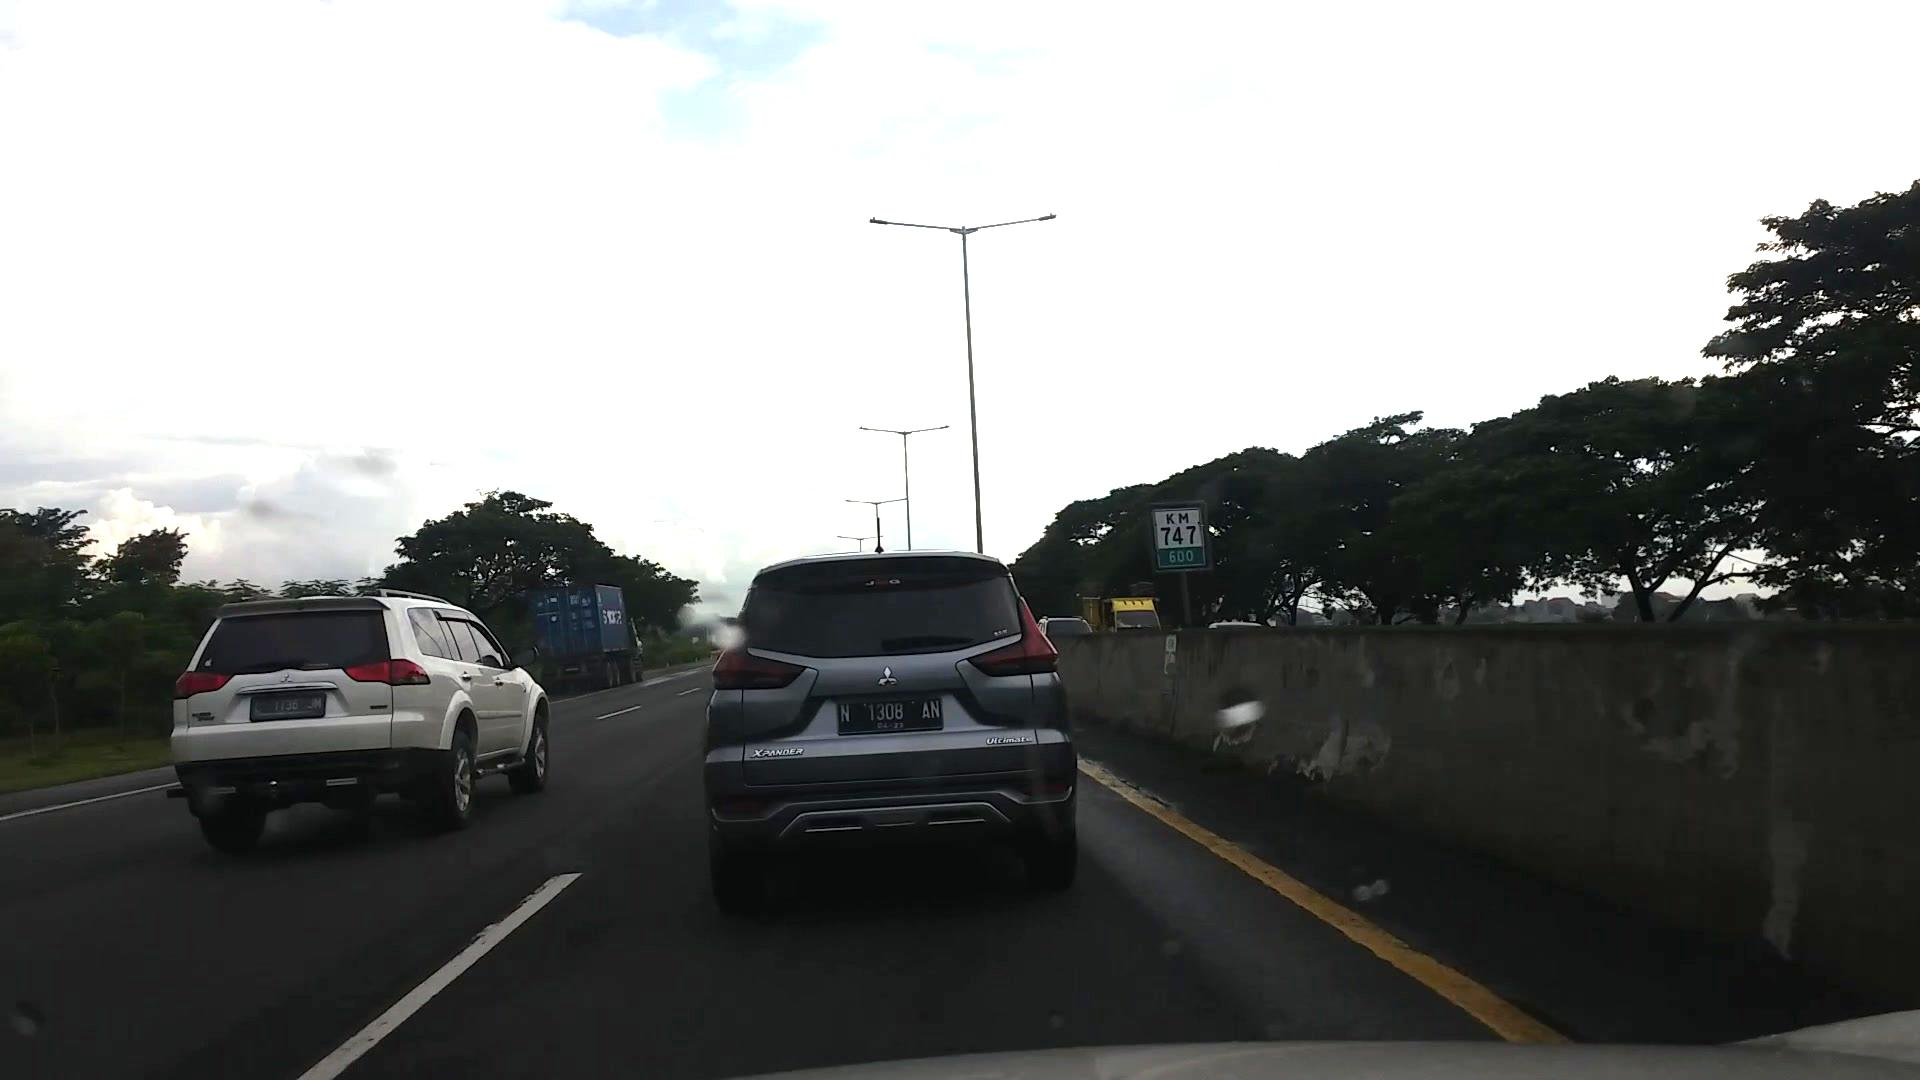plate_positive: (837, 698, 943, 732)
